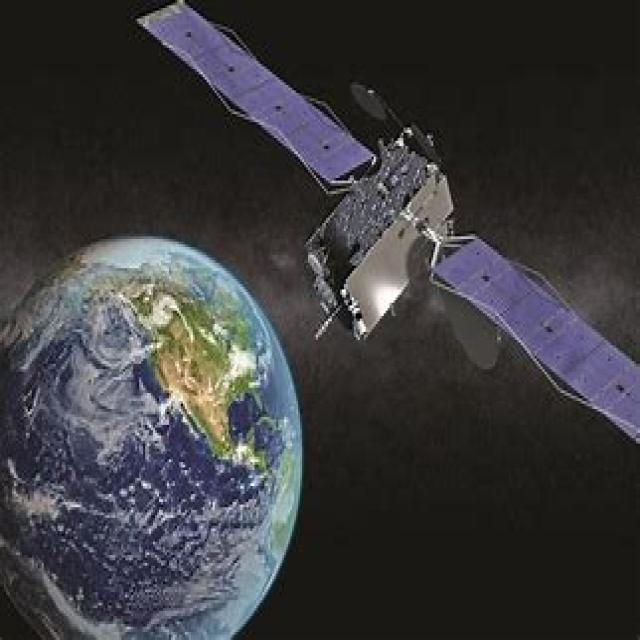medium_debris: (129, 0, 640, 459)
